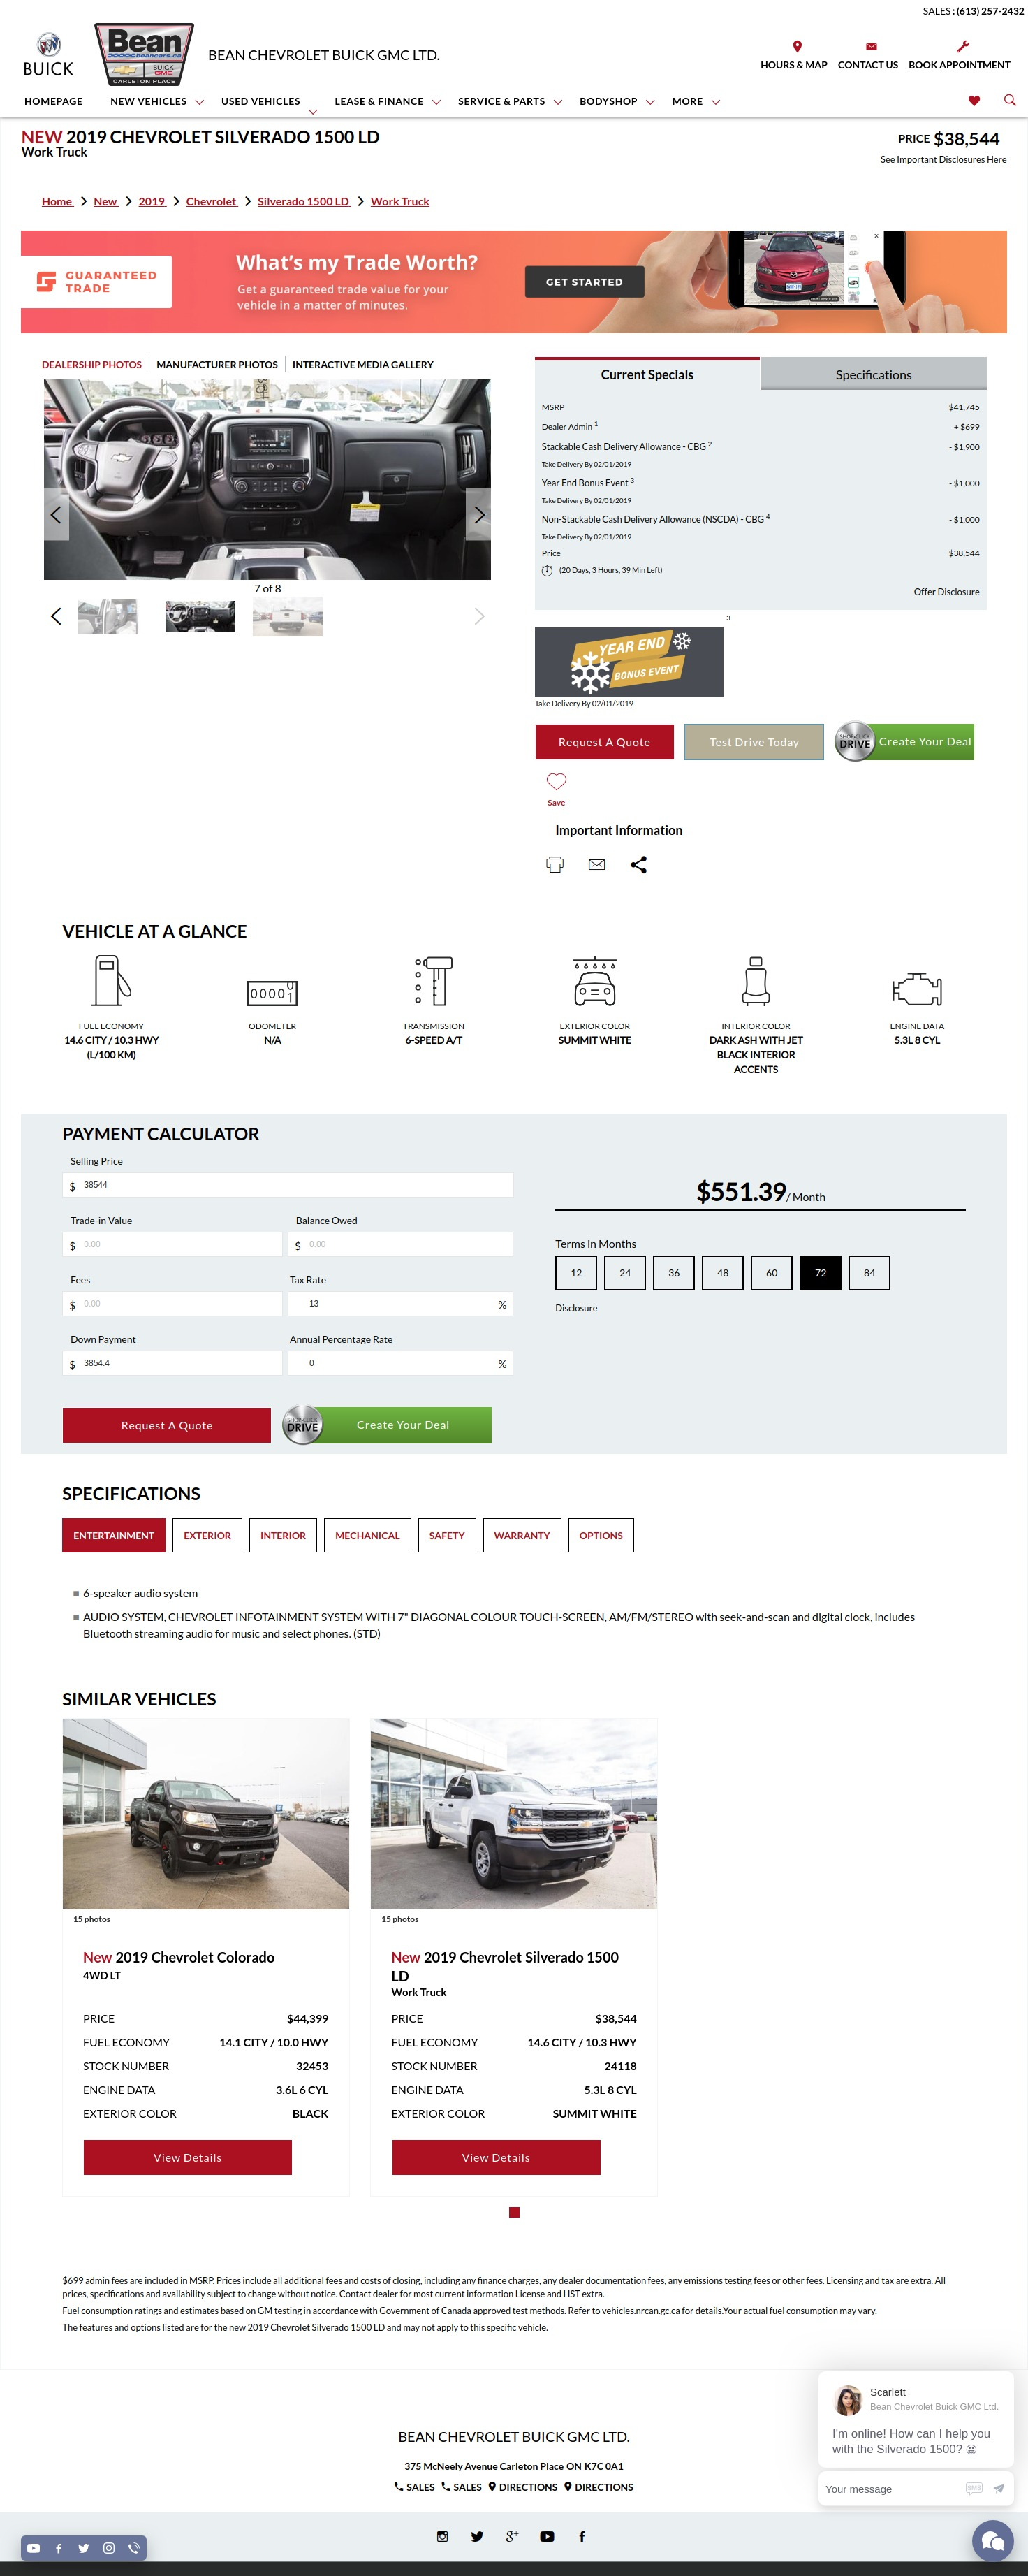car: (471, 608, 488, 626)
